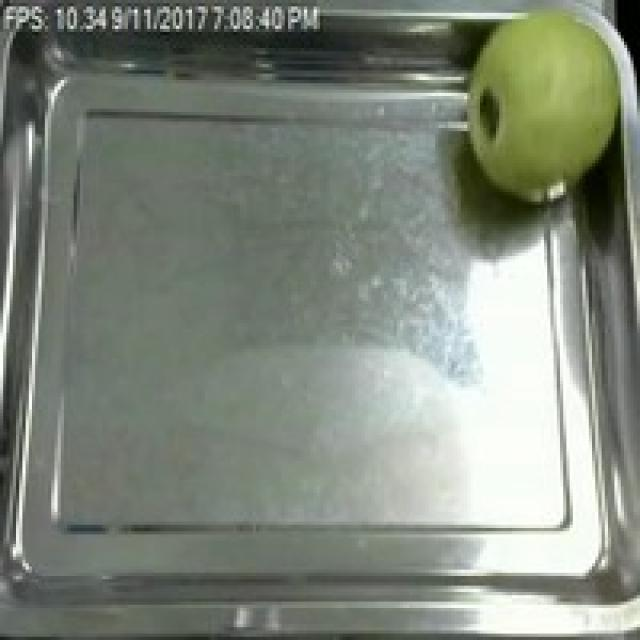Fruit: (451, 0, 640, 218)
